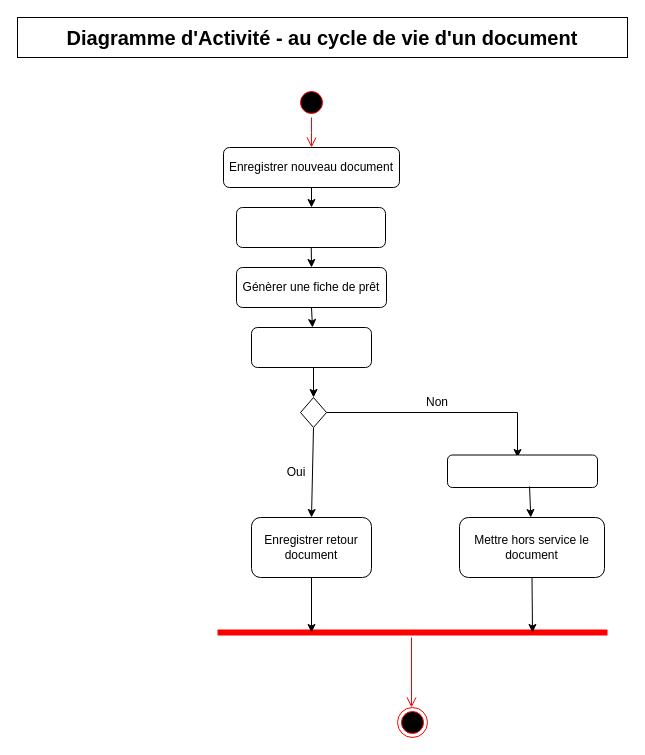
This 645x755 diagram has some shape labels left out. The shapes that lost their labels are listed below. From the top down, each one's centre as x and y in pixels, then its label:
the point at 311,227: Prêter document
the point at 311,347: Retour document
the point at 522,471: Document volé ou perdu
